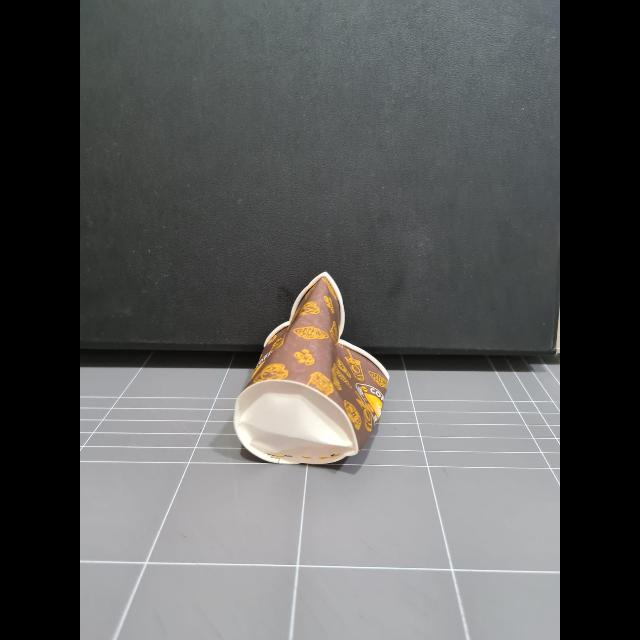trash: (208, 256, 406, 474)
